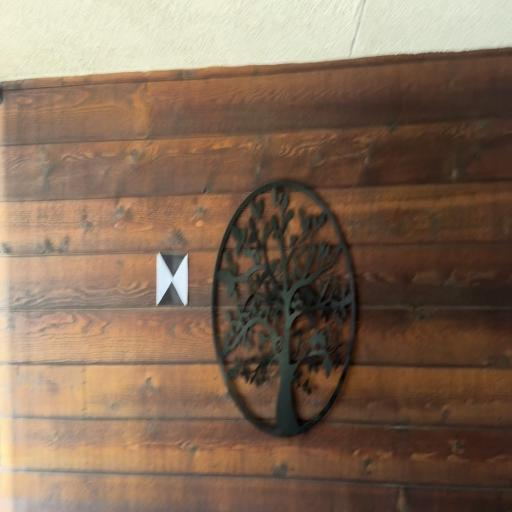target: (156, 254, 188, 306)
